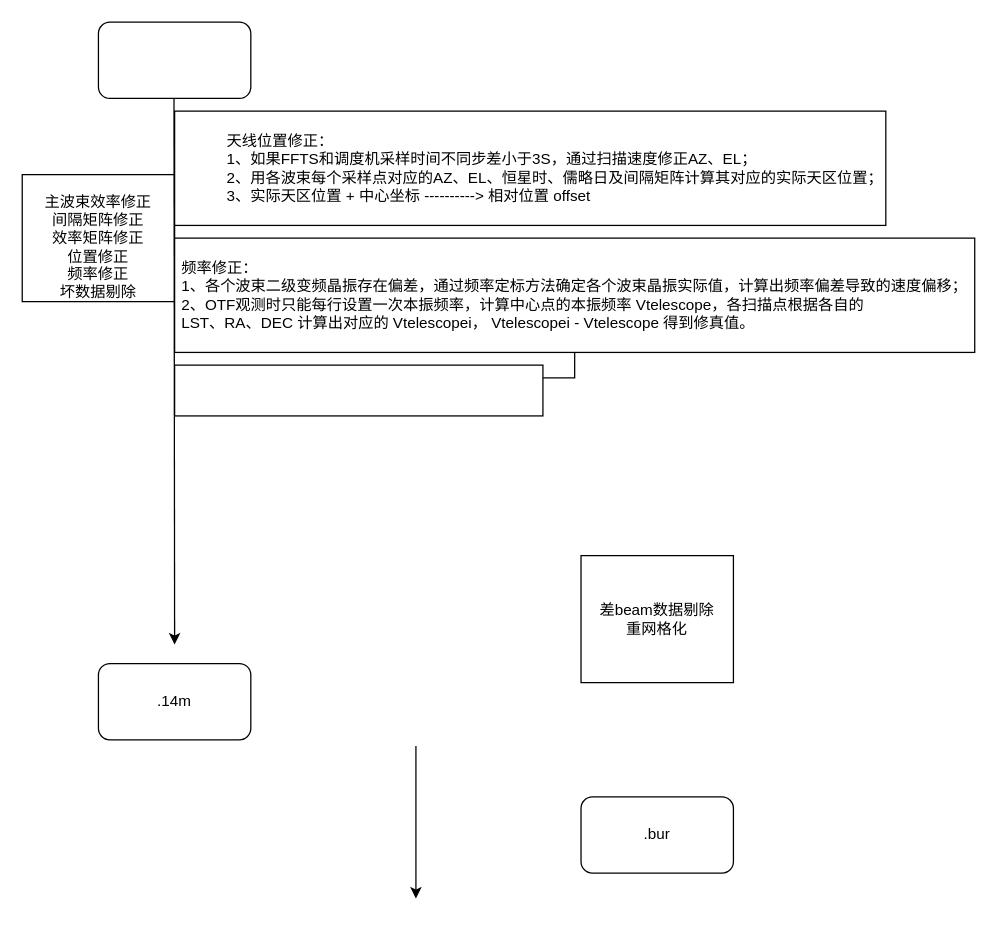
Some shapes in this 997 by 931 pixel diagram are drawn without their labels. Here are the shapes that lost their labels. From the top down, the centre of each, then its label:
At (174,59): "OTF".
At (358,390): "效率修正：效率矩阵和主波束效率（随俯仰变化）".
